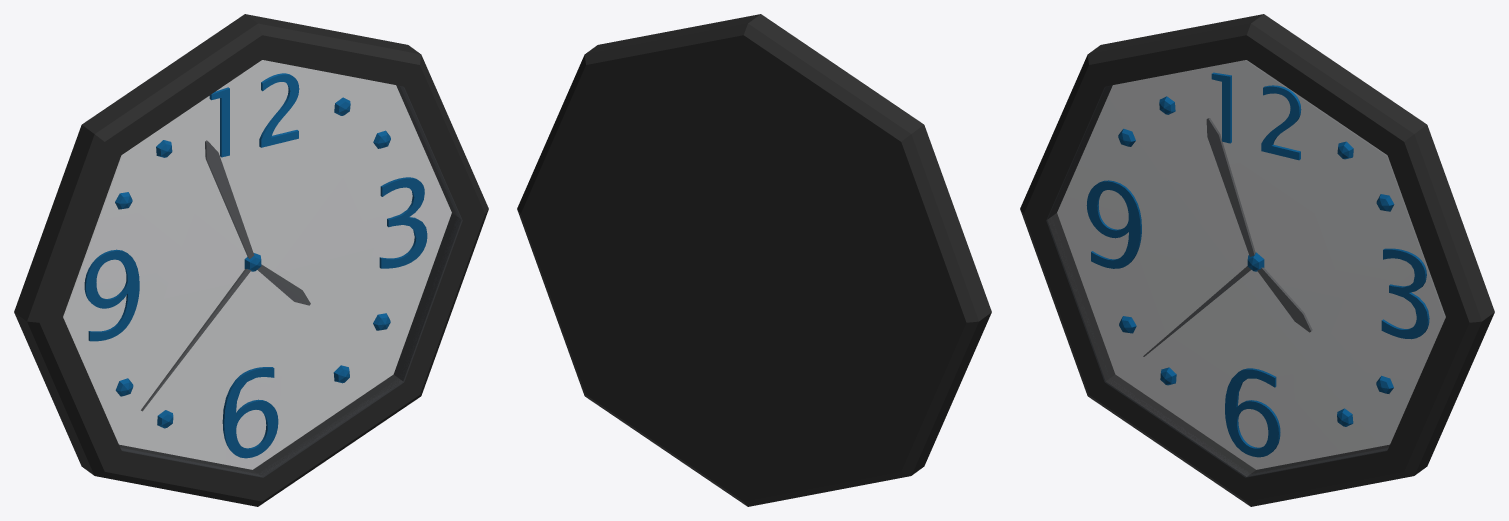
Rendered from wall_clock.fbx.
The picture shows the model from 3 angles, left to right: view 1: azimuth 30°, elevation 25°; view 2: azimuth 150°, elevation 25°; view 3: azimuth 330°, elevation 25°; orthographic projection.
Visible parts, largest first — view 1: pSphere18; view 2: pSphere18; view 3: pSphere18.
Part boxes in pixels (<box>): pSphere18: <box>14,14,488,506</box>; pSphere18: <box>517,14,991,506</box>; pSphere18: <box>1020,14,1494,506</box>.
Size of the model in its own units: 1.12 by 1.12 by 0.1286.
